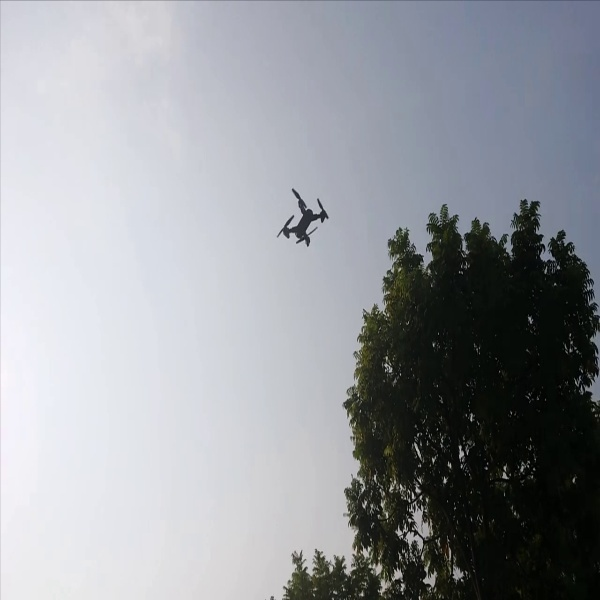drone: (262, 182, 338, 252)
